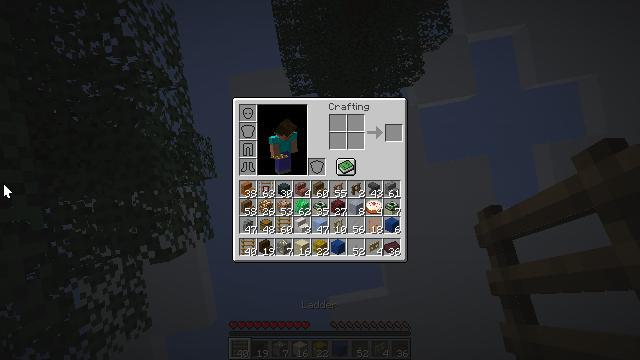cursor: (183, 3, 199, 13)
